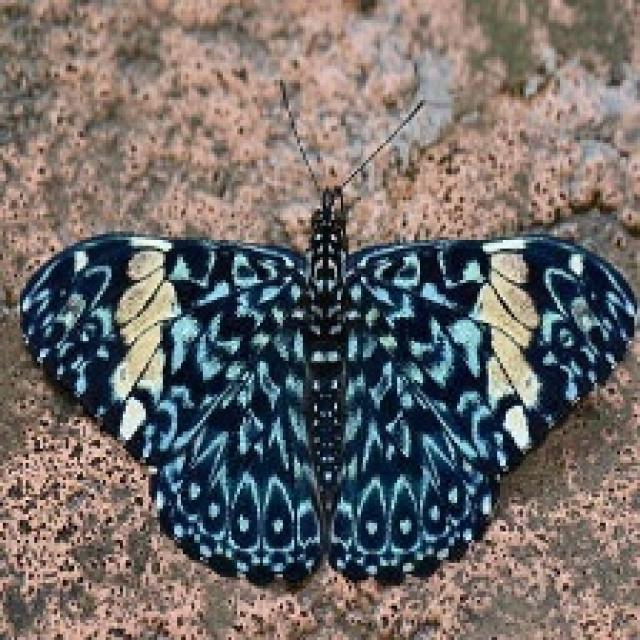butterfly: (14, 74, 637, 589)
